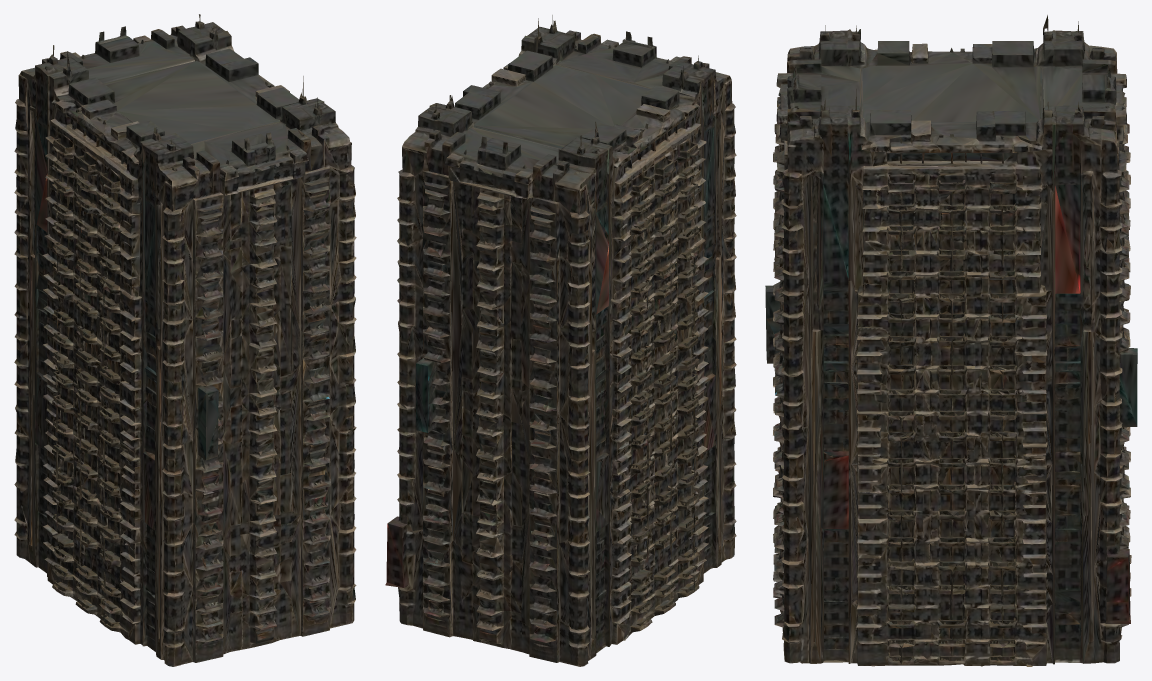
3 views of the same model, side by side, from view 1: azimuth 30°, elevation 25°; view 2: azimuth 150°, elevation 25°; view 3: azimuth 270°, elevation 25° (orthographic). The views are drawn at different scales.
Parts seen in each view (by area): view 1: m01; view 2: m01; view 3: m01.
Boxes of the visible parts, left/top/right/bottom form: m01: left=14, top=14, right=356, bottom=666; m01: left=385, top=15, right=736, bottom=666; m01: left=765, top=15, right=1137, bottom=666.
Bounding box in the file's own units: 71.15 × 170 × 101.
Materials: 1 (1 with a texture image).
